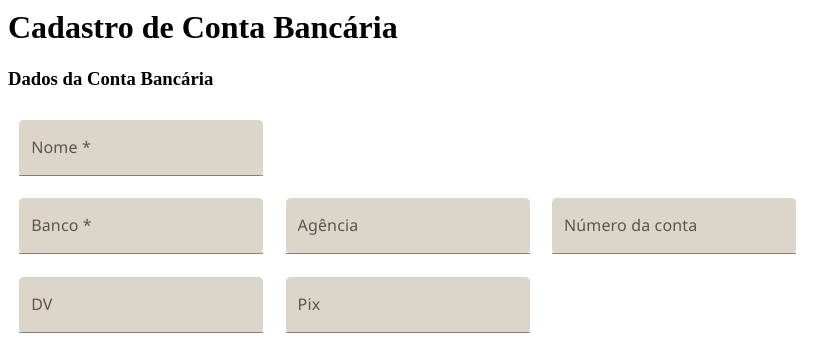
Scenario: BankAccountCreate Component › applies masks correctly
Type "123456" into the field labelled "Agência" at (408,226), box [286,198,530,254]
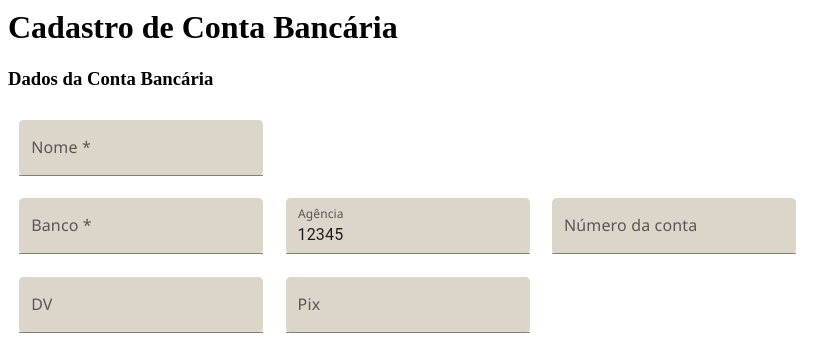
Check: the field labelled "Agência" holds "12345", box [286,198,530,254]
Type "123456789012" into the field labelled "Número da conta" at (674,226), box [552,198,796,254]
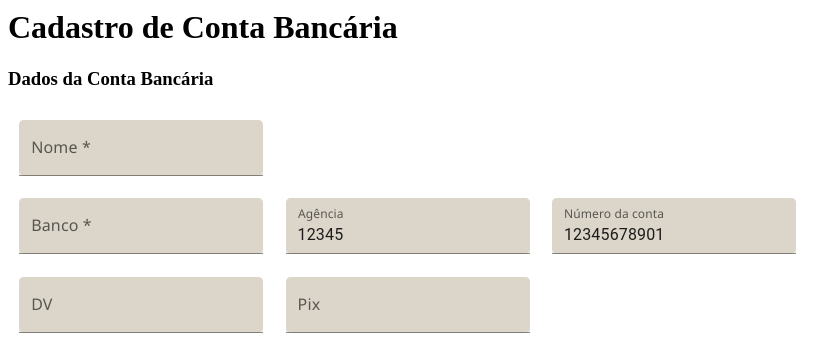
Check: the field labelled "Número da conta" holds "12345678901", box [552,198,796,254]
Type "123" into the field labelled "DV" at (141,304), box [19,276,263,332]
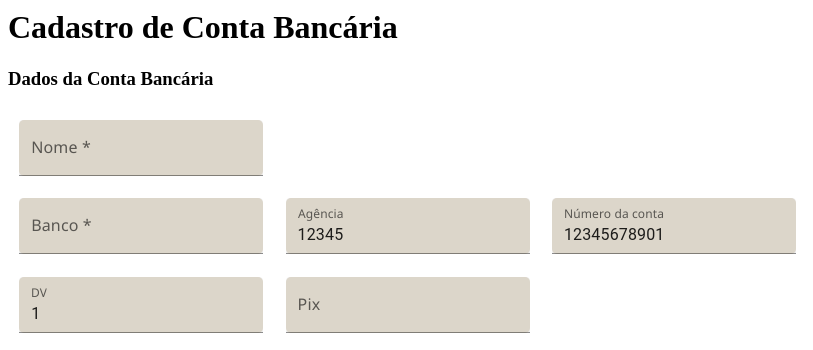
Check: the field labelled "DV" holds "1", box [19,276,263,332]
